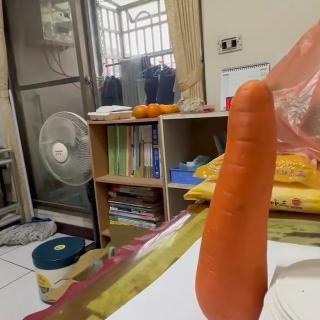carrot: (195, 79, 277, 320)
